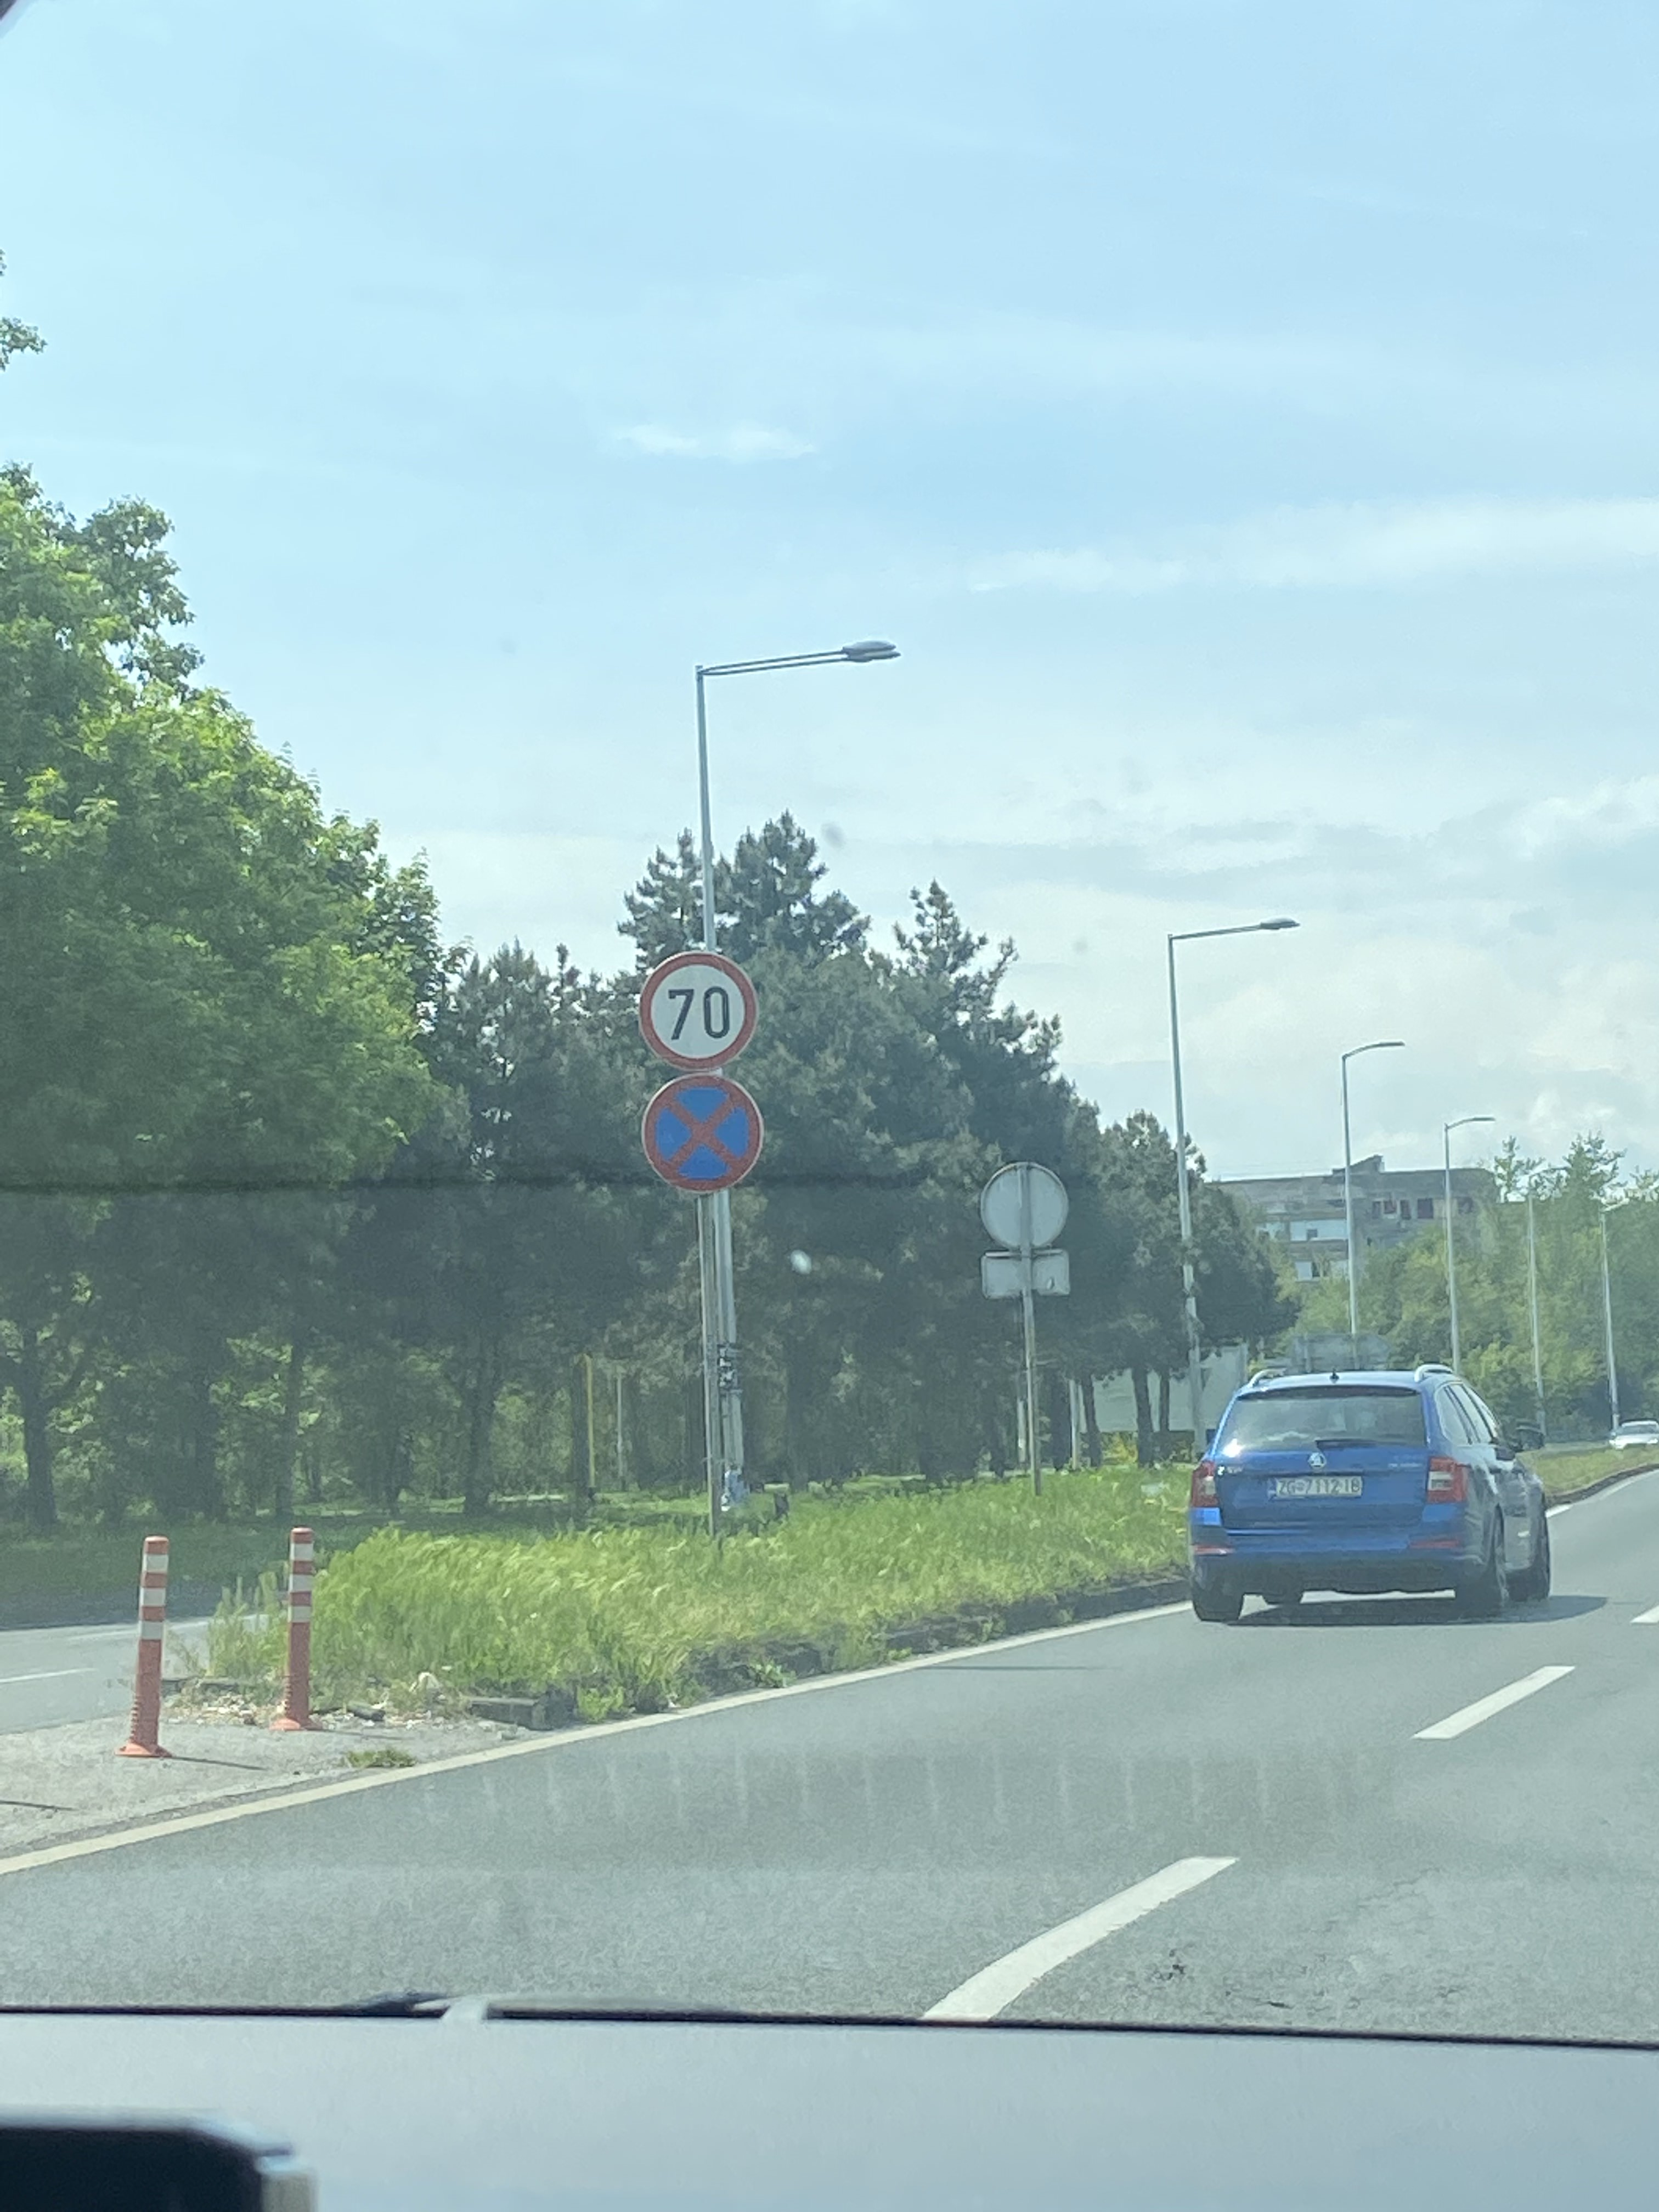Ograničenje brzine 70: (638, 951, 758, 1071)
